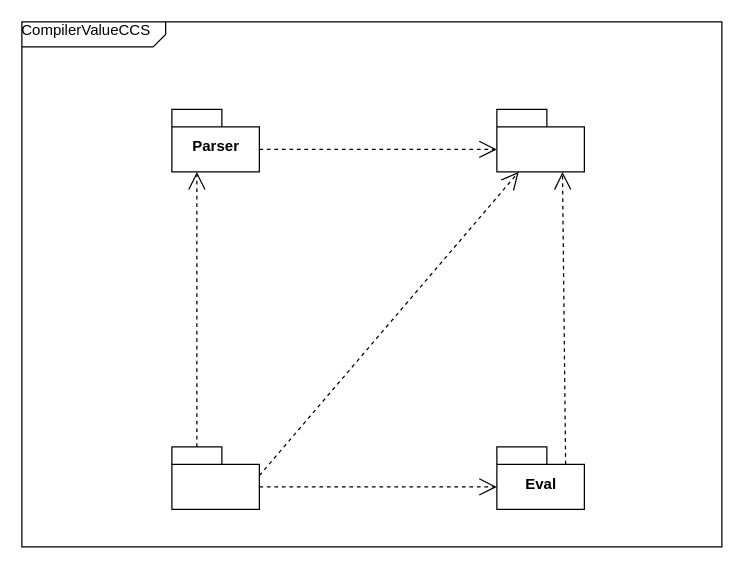
This 744x569 diagram has some shape labels left out. Here are the shapes that lost their labels. From the top down, the centre of each, then its label:
point (540, 140): Ast
point (215, 477): Compiler
